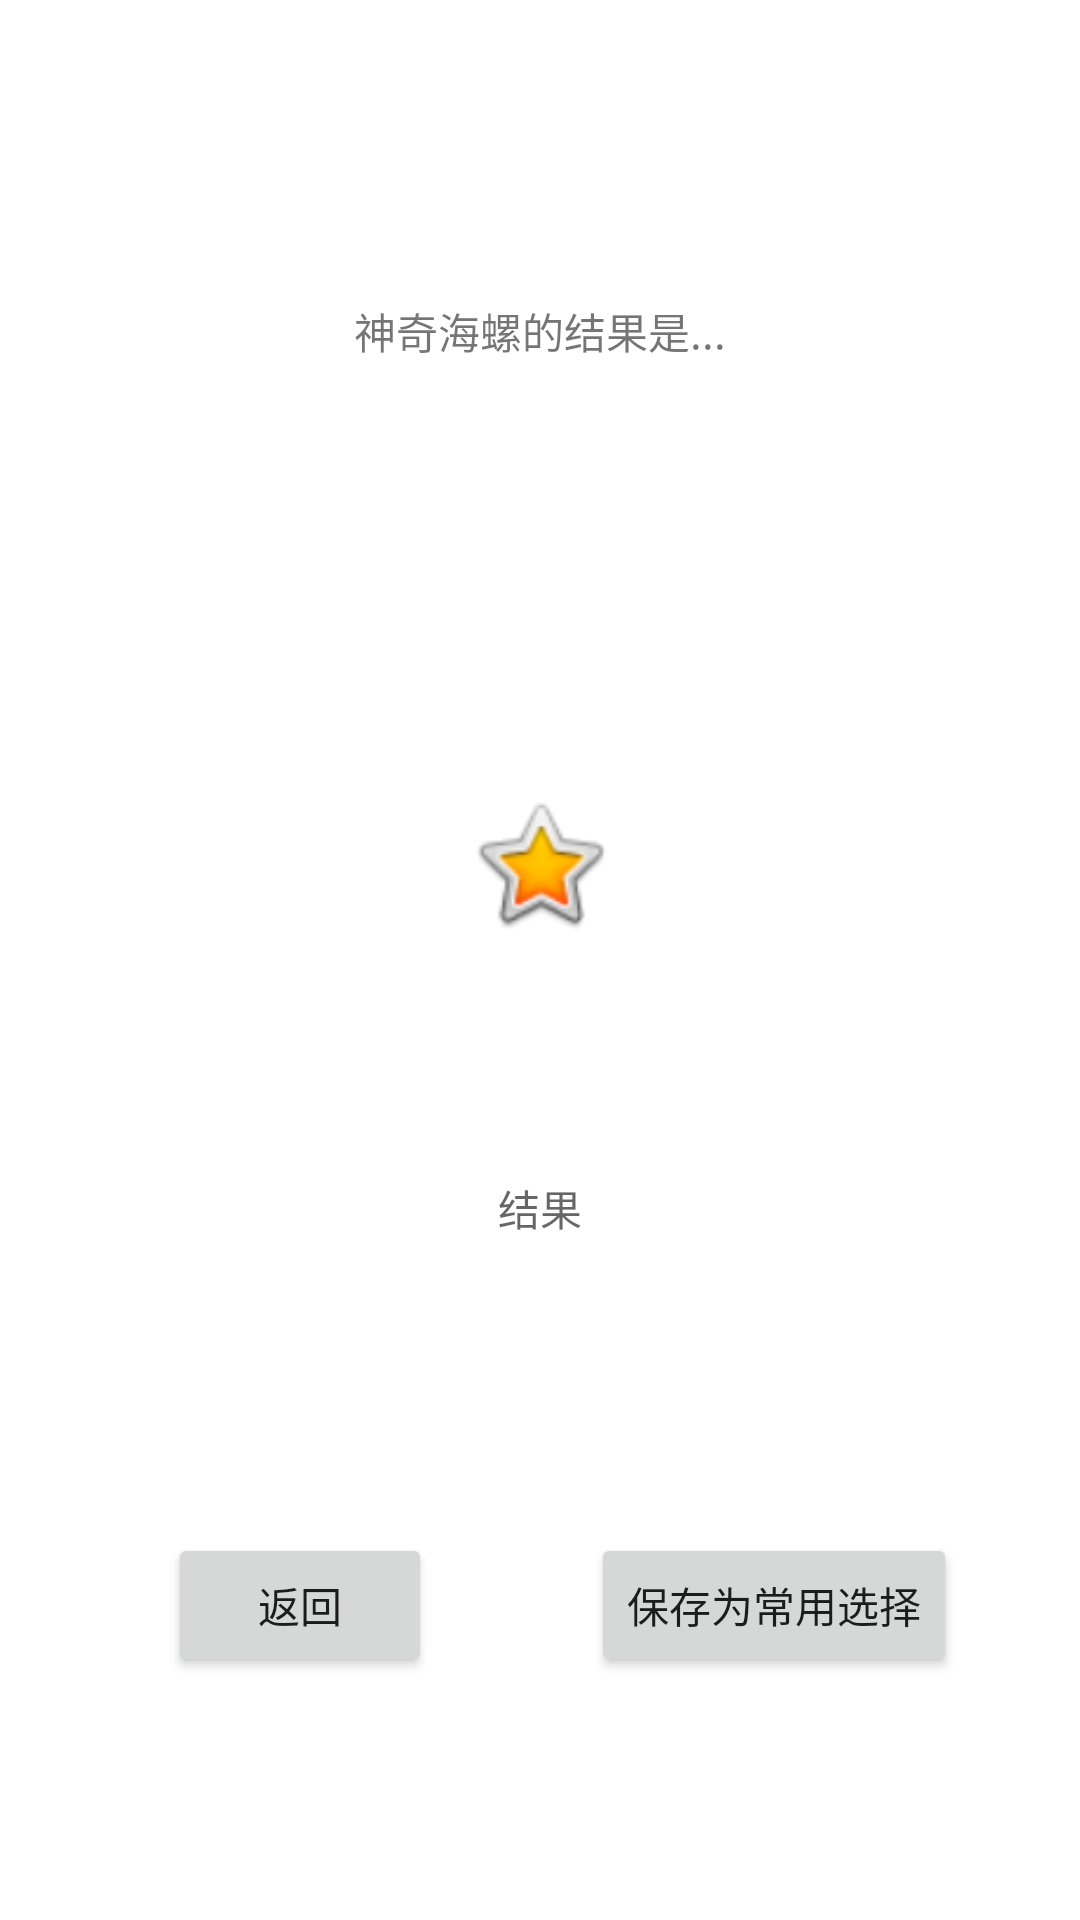

Icons on this 1080px×1920px Android screen, each with the point to tap as (x,y):
star on: (541,865)
